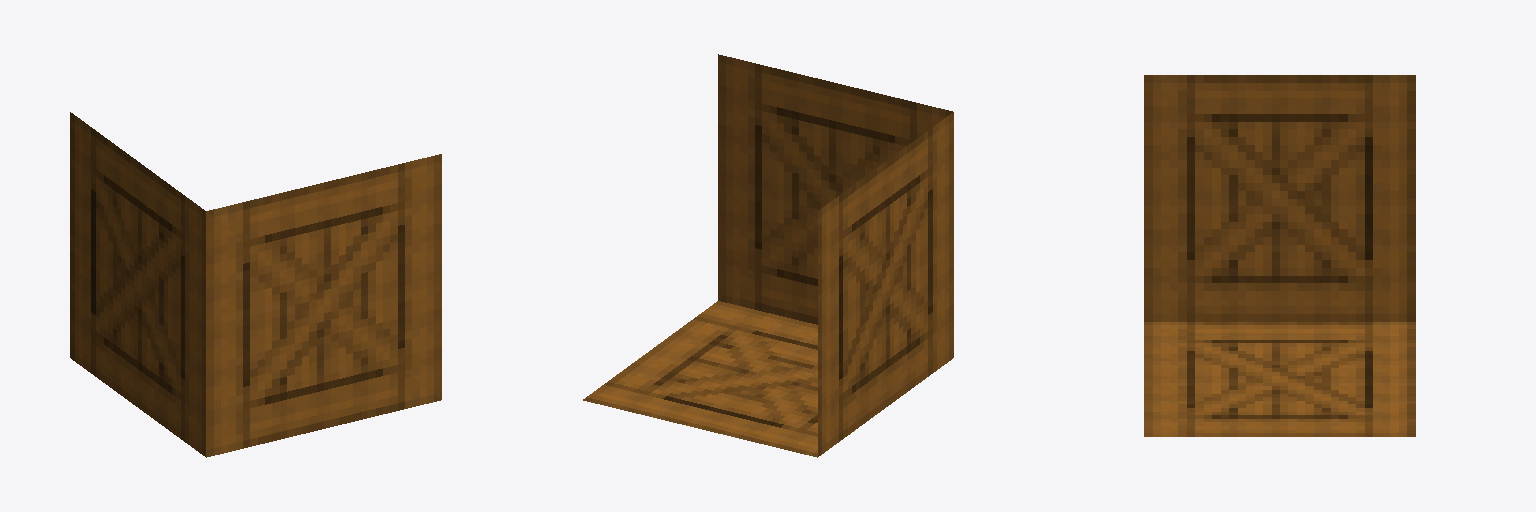
The picture shows the model from 3 angles: view 1: azimuth 30°, elevation 25°; view 2: azimuth 150°, elevation 25°; view 3: azimuth 270°, elevation 25°; orthographic projection.
Visible parts, largest first — view 1: object 1; view 2: object 1; view 3: object 1.
Boxes of the visible parts, x1=… form: object 1: x1=70, y1=112, x2=441, y2=457; object 1: x1=583, y1=54, x2=953, y2=457; object 1: x1=1144, y1=75, x2=1415, y2=436.
Size of the model in its own units: 1 by 1 by 1.
Materials: 1 (1 with a texture image).